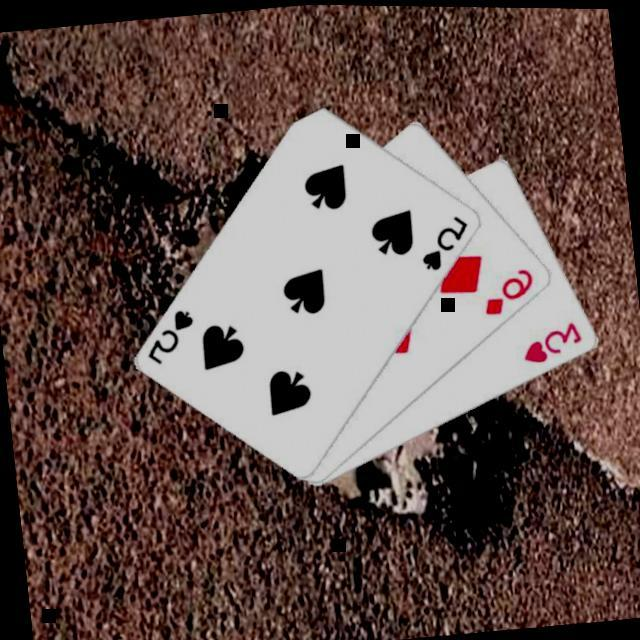3H: (518, 316, 588, 368)
5S: (416, 210, 476, 276), (142, 304, 202, 370)
6D: (478, 263, 541, 320)
